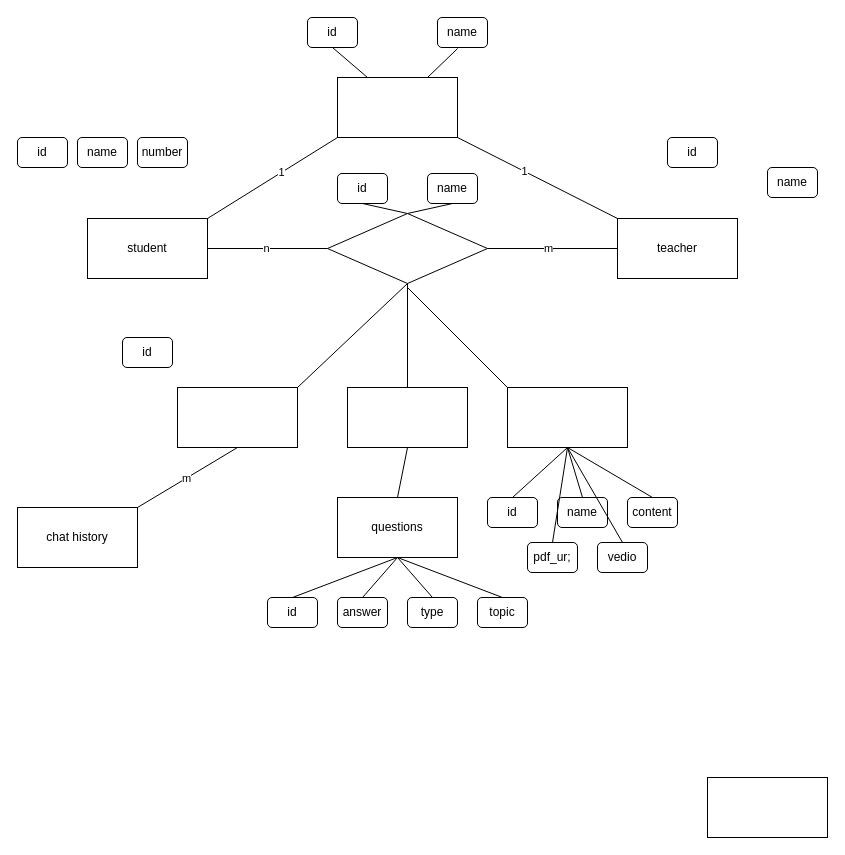
Some shapes in this 845 by 855 pixel diagram are drawn without their labels. Here are the shapes that lost their labels. From the top down, the centre of each, then its label:
At point 397,107: "college".
At point 407,248: "course".
At point 237,417: "chat room".
At point 407,417: "exame".
At point 567,417: "chapter".
At point 767,807: "class".
